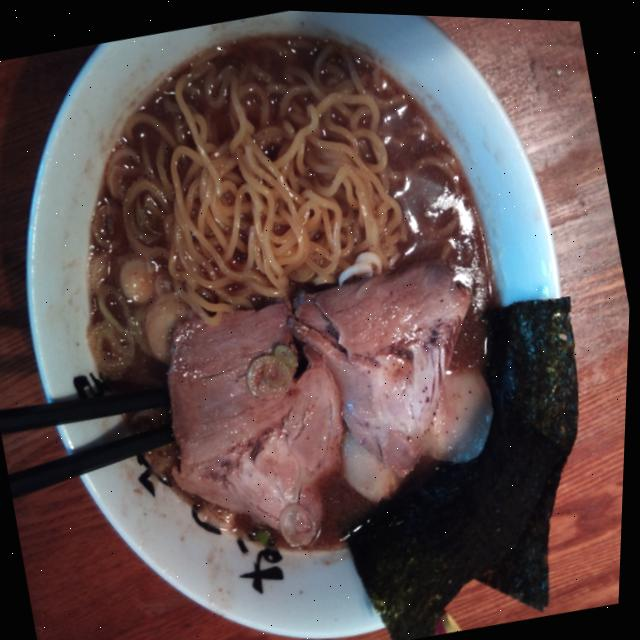面条主食: (31, 1, 590, 586)
